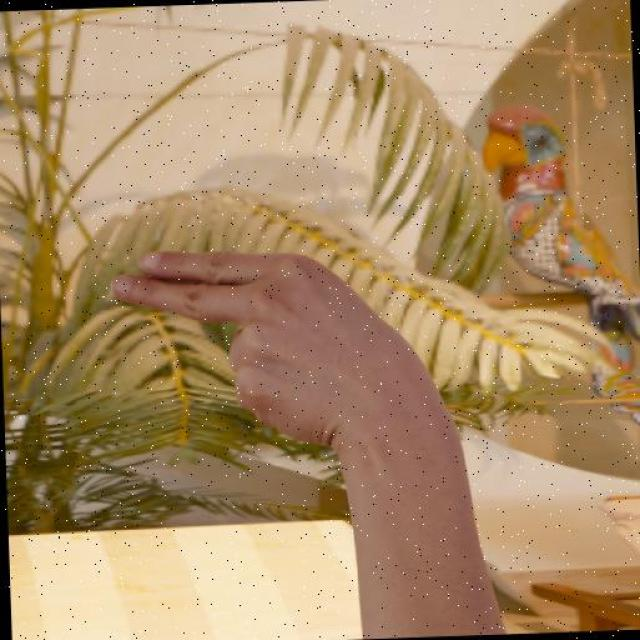H: (106, 238, 467, 458)
